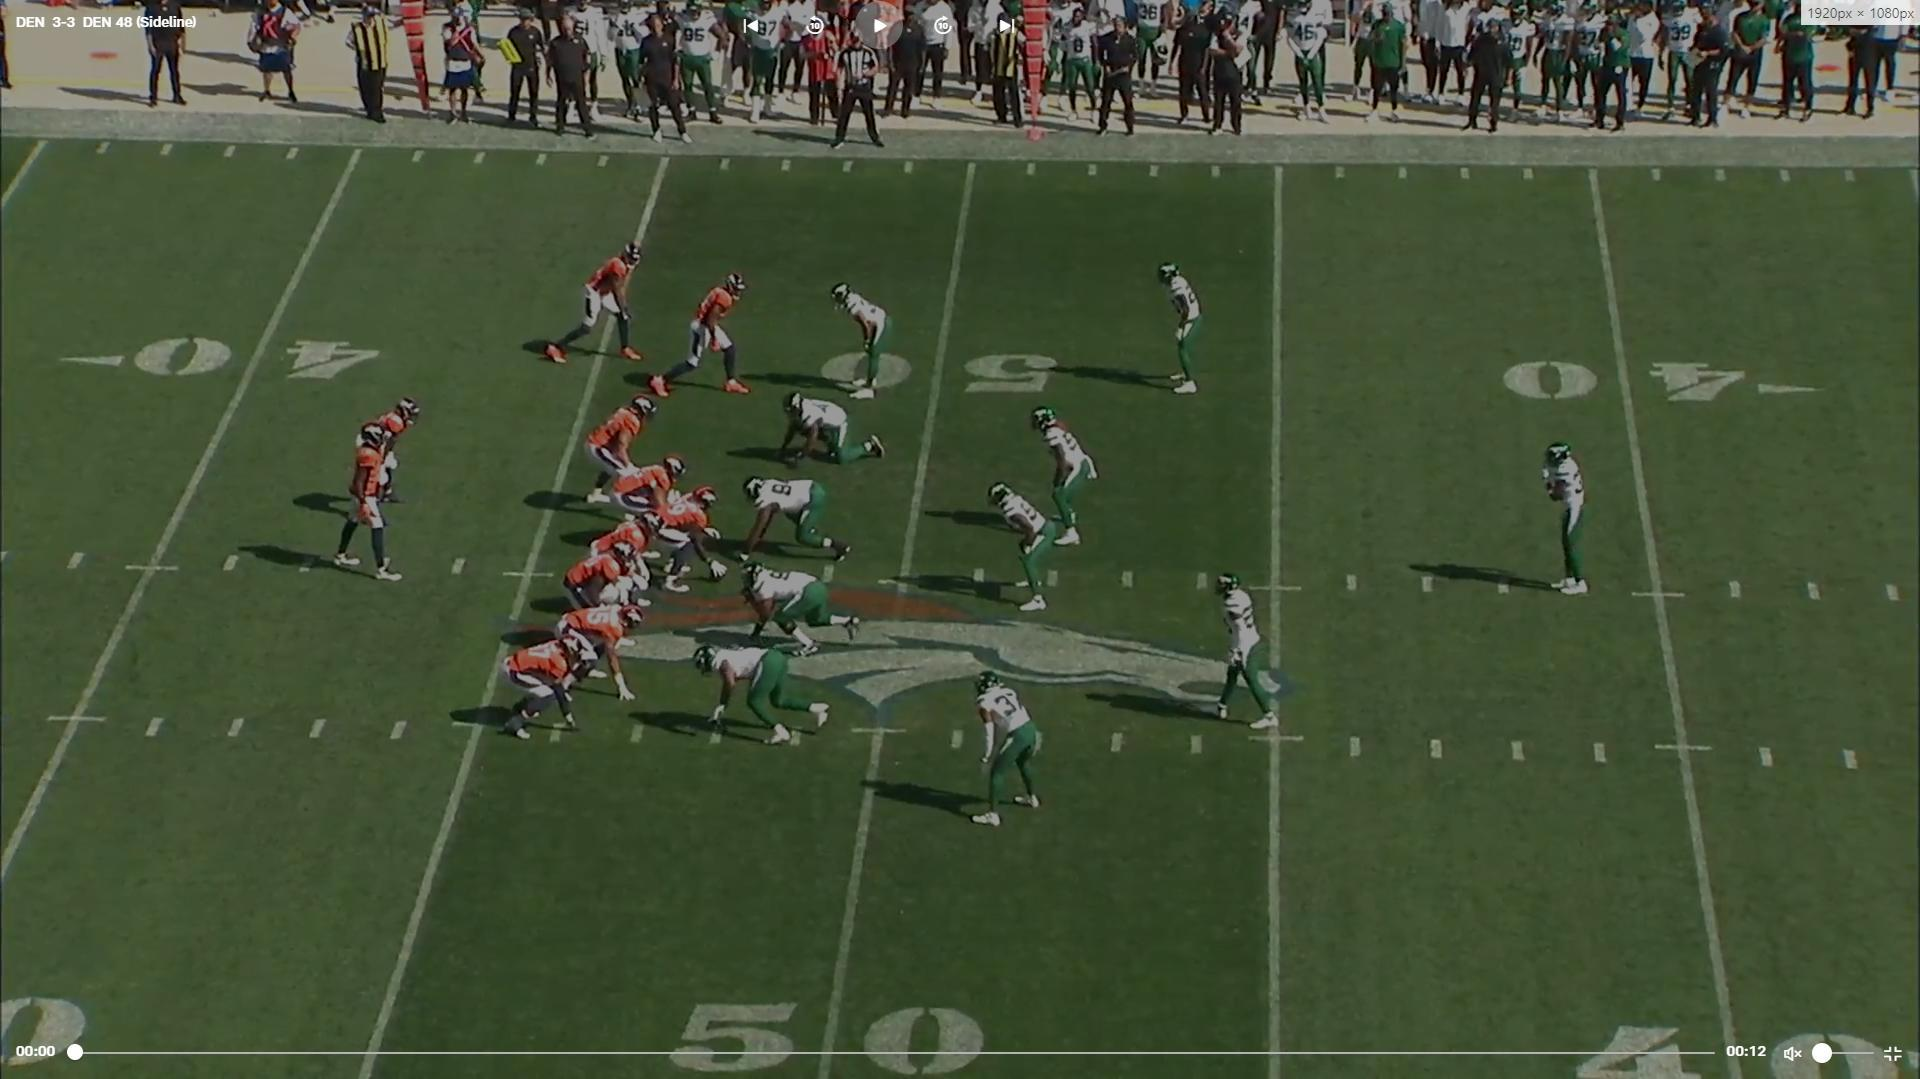defense: (689, 641, 828, 752), (1203, 568, 1291, 732), (971, 673, 1054, 838), (743, 563, 866, 659), (987, 480, 1066, 623), (1532, 440, 1593, 605), (1031, 405, 1097, 556), (778, 392, 890, 477), (741, 475, 849, 563), (828, 280, 894, 404), (1156, 257, 1209, 404)
oline: (586, 389, 664, 511), (649, 483, 731, 594), (560, 530, 644, 620), (590, 514, 662, 608), (608, 454, 691, 529)
qb: (340, 419, 414, 592)
ref: (827, 38, 893, 163)
skill: (542, 236, 654, 366), (651, 273, 751, 406), (499, 637, 596, 745), (550, 602, 641, 706), (360, 393, 429, 524)
